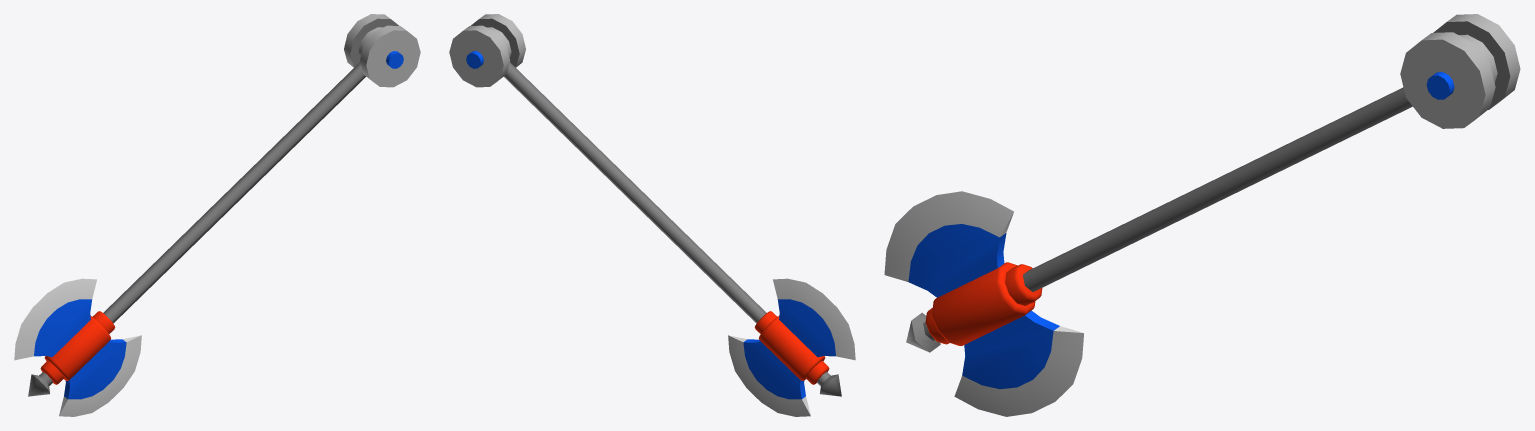
File: Obstacle-18.fbx
3 views of the same model, side by side, from view 1: azimuth 30°, elevation 25°; view 2: azimuth 150°, elevation 25°; view 3: azimuth 330°, elevation 25° (orthographic). The views are drawn at different scales.
Visible parts, largest first — view 1: swing axe, swing axe case; view 2: swing axe, swing axe case; view 3: swing axe, swing axe case.
Boxes of the visible parts, <box> form: swing axe: <box>14,62,366,416</box>; swing axe case: <box>344,14,420,87</box>; swing axe: <box>503,62,855,416</box>; swing axe case: <box>449,14,525,87</box>; swing axe: <box>884,87,1412,416</box>; swing axe case: <box>1400,14,1520,128</box>.
Size of the model in its own units: 304 by 236 by 37.74.
